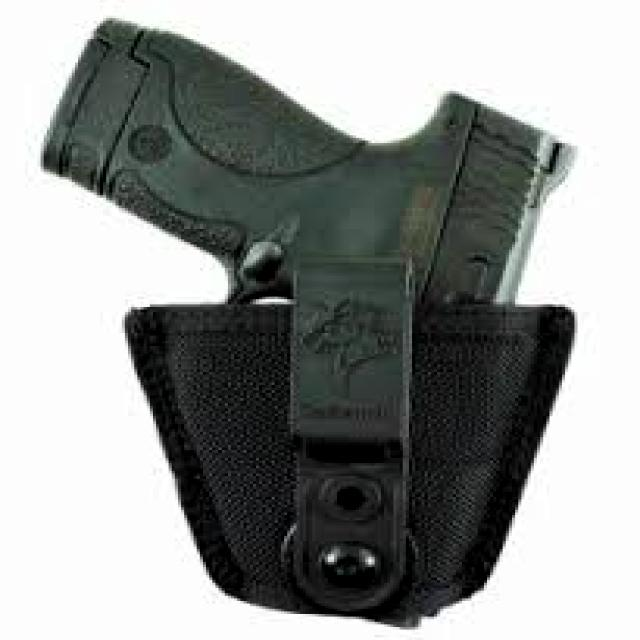semi automatic: (25, 9, 583, 635)
